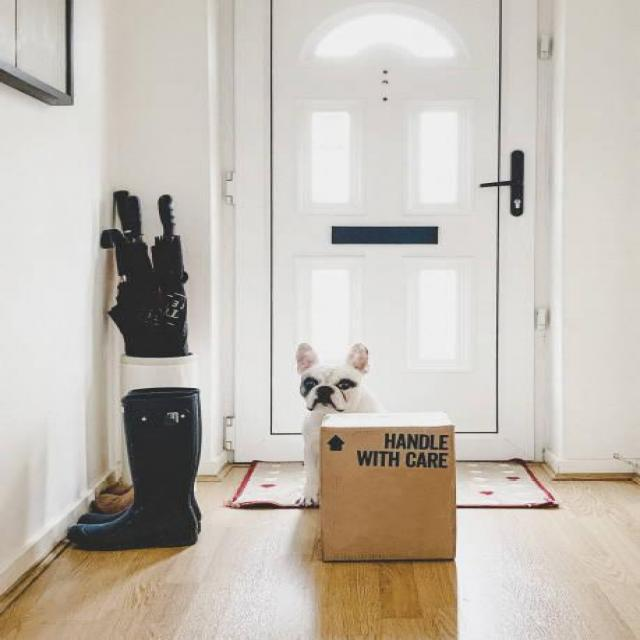box: (314, 408, 468, 567)
